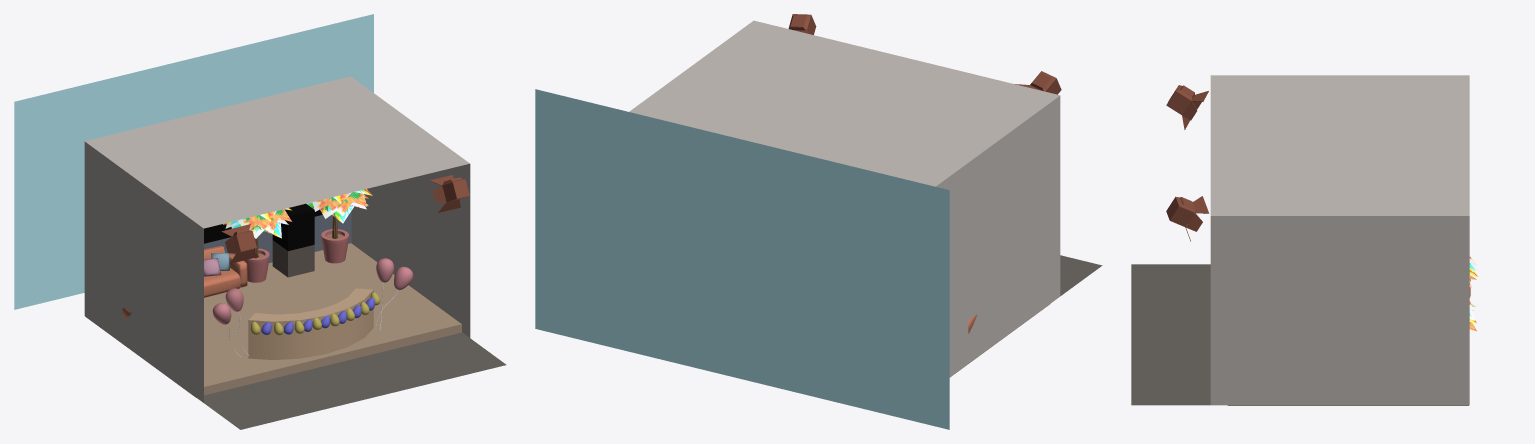
The model's file is stage1213.fbx.
3 views of the same model, side by side, from view 1: azimuth 30°, elevation 25°; view 2: azimuth 150°, elevation 25°; view 3: azimuth 270°, elevation 25° (orthographic). The views are drawn at different scales.
Parts seen in each view (by area): view 1: tenjou, haikei, stage, floor, desk, cage, wall, cagedesk, polySurface10, stage1125:stage:pCube1, stage1125:stage:polySurface10, stage1125:stage:polySurface13; view 2: haikei, tenjou, floor; view 3: tenjou, floor, stage1125:stage:polySurface13 (×2).
Boxes of the visible parts, x1=… form: tenjou: x1=84, y1=76, x2=470, y2=402; haikei: x1=14, y1=14, x2=373, y2=309; stage: x1=85, y1=243, x2=461, y2=397; floor: x1=204, y1=332, x2=506, y2=429; desk: x1=248, y1=288, x2=373, y2=360; cage: x1=272, y1=203, x2=314, y2=251; wall: x1=204, y1=211, x2=351, y2=262; cagedesk: x1=272, y1=240, x2=314, y2=277; polySurface10: x1=321, y1=229, x2=348, y2=263; stage1125:stage:pCube1: x1=204, y1=268, x2=240, y2=297; stage1125:stage:polySurface10: x1=244, y1=248, x2=269, y2=282; stage1125:stage:polySurface13: x1=442, y1=177, x2=469, y2=201; haikei: x1=535, y1=89, x2=949, y2=429; tenjou: x1=629, y1=20, x2=1060, y2=376; floor: x1=1060, y1=255, x2=1102, y2=295; tenjou: x1=1210, y1=75, x2=1469, y2=405; floor: x1=1131, y1=264, x2=1210, y2=405; stage1125:stage:polySurface13 (×2): x1=1166, y1=85, x2=1194, y2=227.
Bounding box in the file's own units: 24.21 × 13.43 × 20.91.
